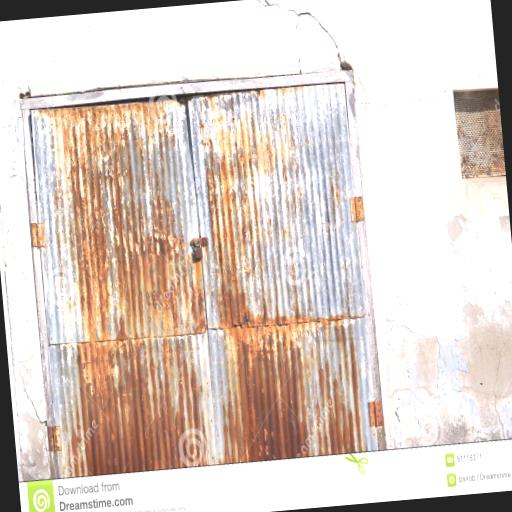corrosion: (31, 98, 206, 344), (66, 338, 187, 475), (229, 324, 302, 462), (136, 336, 204, 469), (223, 257, 250, 326), (185, 375, 202, 454), (224, 286, 227, 307)
